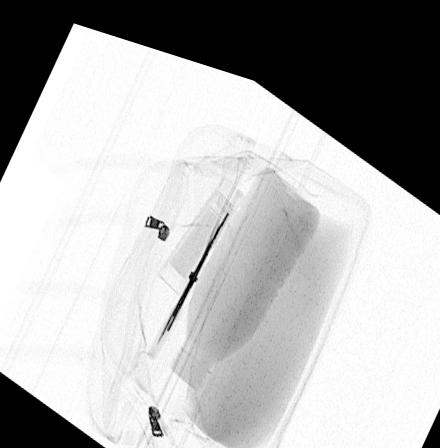Scissors: (144, 174, 242, 350)
